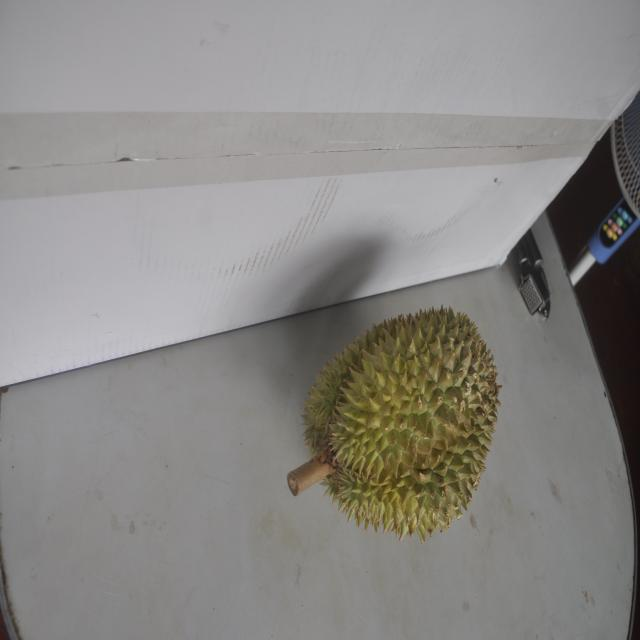mature: (302, 304, 499, 536)
